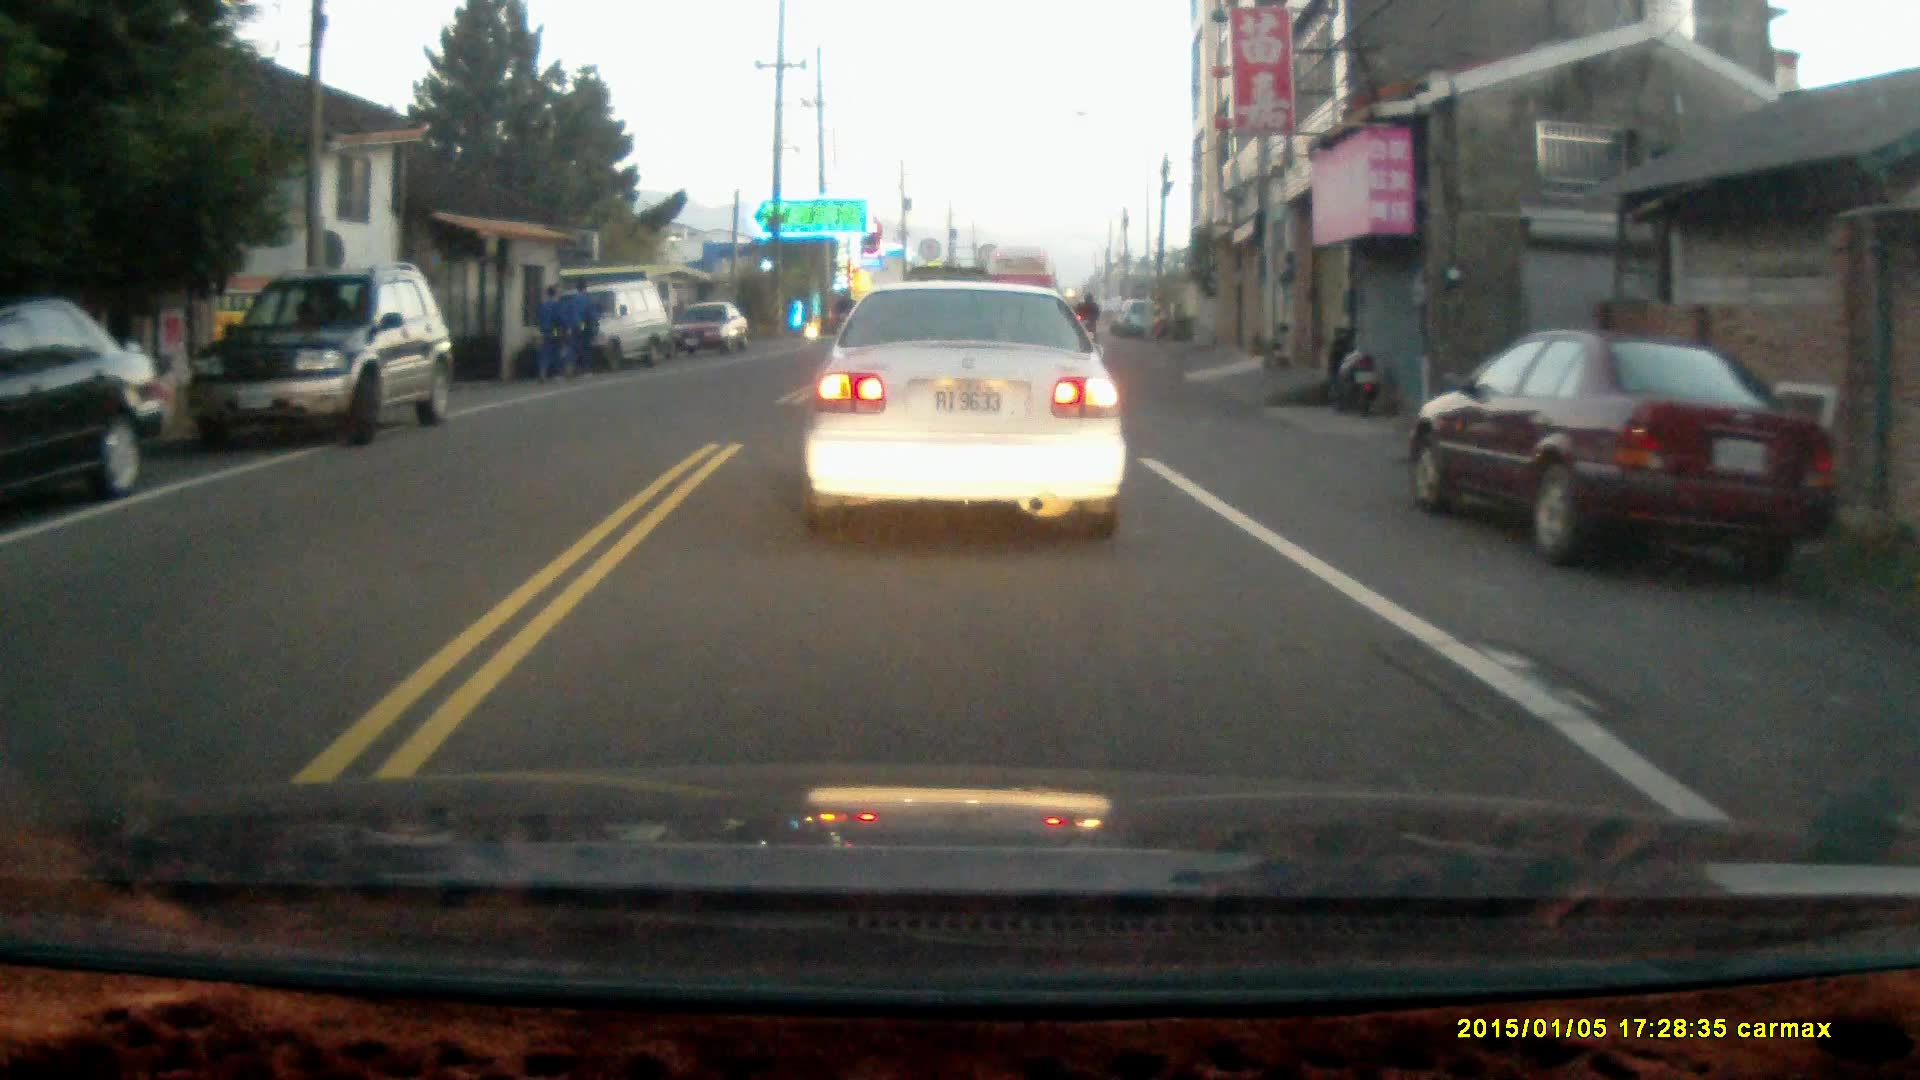pedestrian: (528, 282, 563, 384), (564, 274, 596, 381)
vehicle: (1402, 329, 1830, 574), (803, 278, 1133, 543), (193, 267, 450, 448), (1, 298, 170, 526), (557, 282, 685, 372), (665, 304, 751, 361)
